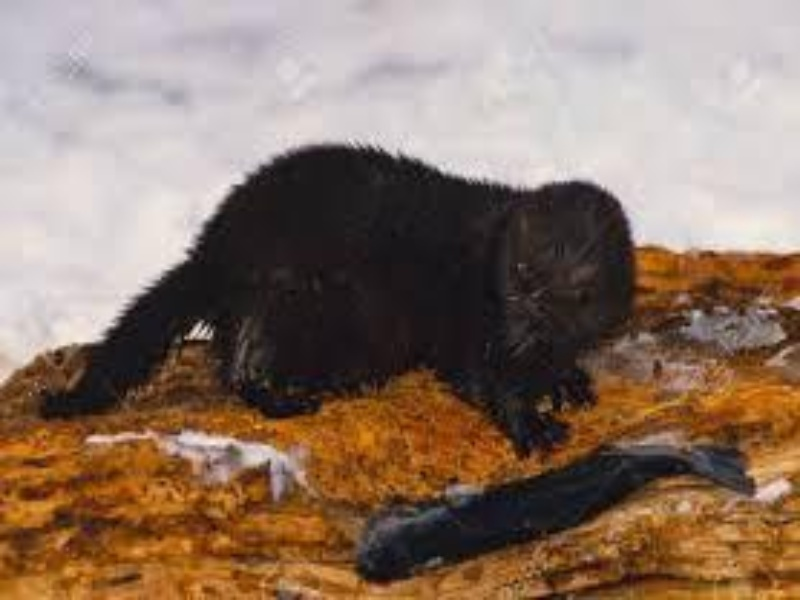minkish: (40, 138, 640, 458)
